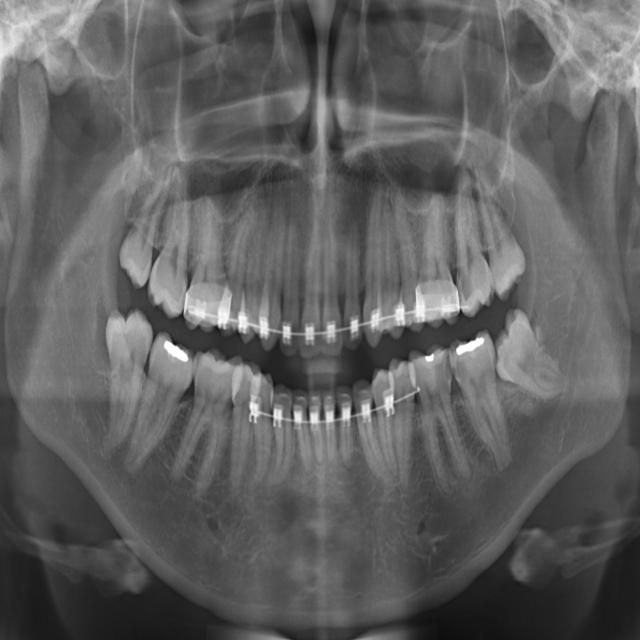AmalgamRestoration: (456, 321, 484, 365), (162, 334, 191, 371), (420, 342, 439, 371)
DentalCaries: (451, 345, 472, 430), (434, 348, 451, 433), (456, 236, 474, 314)
ImpactedTooth: (98, 301, 155, 453), (495, 298, 551, 396)
